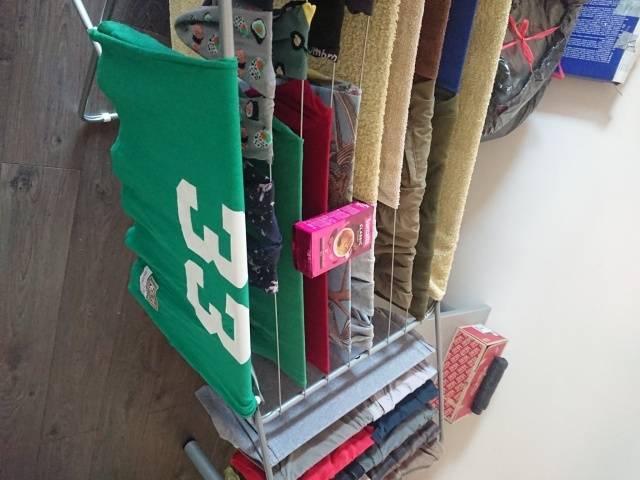Barcaffe Classic Original 225g: (289, 197, 376, 280)
